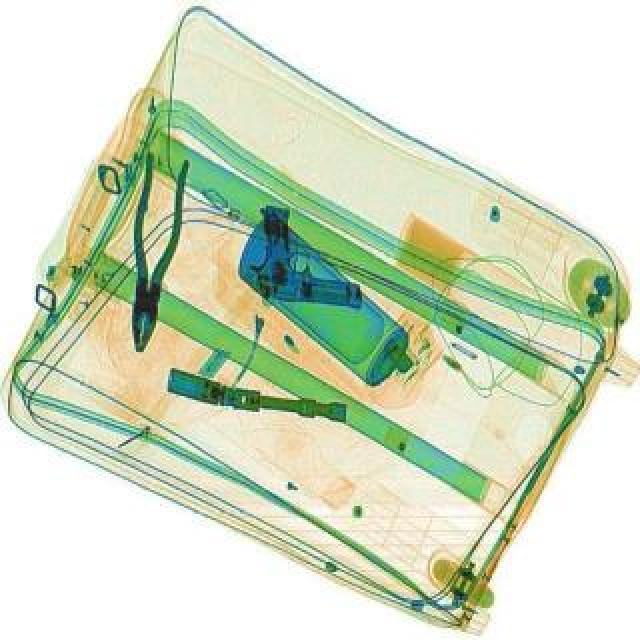gun: (242, 202, 374, 306)
wrench: (116, 150, 190, 354)
